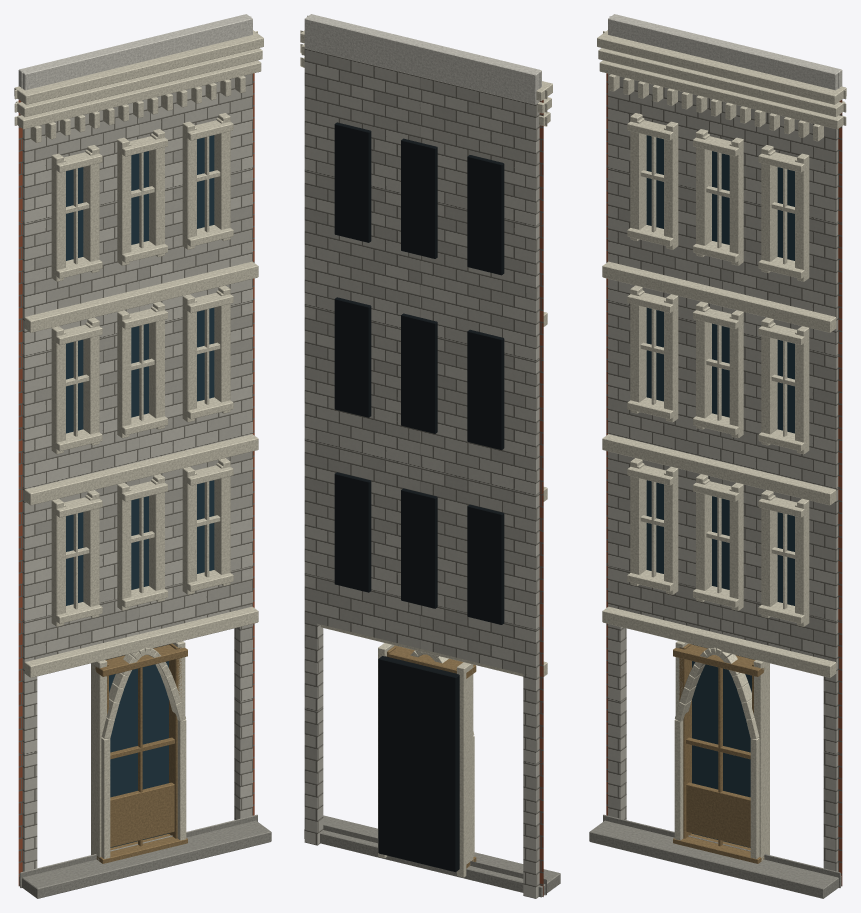
Rendered from OFFC21_lod1.glb.
The picture shows the model from 3 angles, left to right: view 1: azimuth 30°, elevation 25°; view 2: azimuth 150°, elevation 25°; view 3: azimuth 330°, elevation 25°; orthographic projection.
Visible parts, largest first — view 1: OFFC21_FRONT_LOD1; view 2: OFFC21_FRONT_LOD1; view 3: OFFC21_FRONT_LOD1.
Part boxes in pixels (box(x1,y1,x2,y2)): OFFC21_FRONT_LOD1: box(14, 14, 271, 898); OFFC21_FRONT_LOD1: box(300, 14, 560, 898); OFFC21_FRONT_LOD1: box(589, 14, 846, 898).
Bounding box in the file's own units: 3.84 × 12.26 × 0.68.
9 materials, 7 textured.
